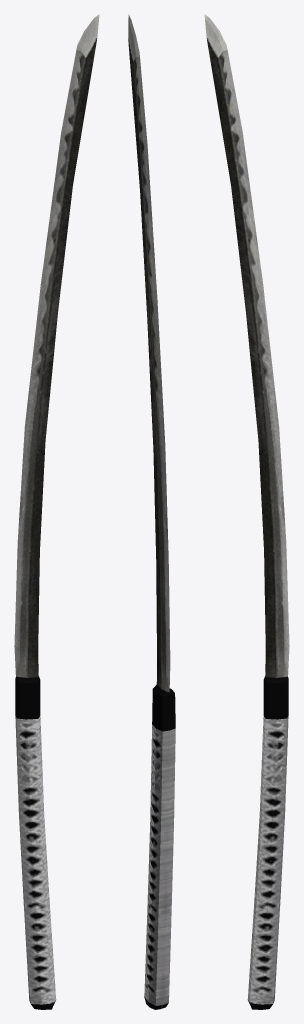
The model's file is nodachi00_ae7145a3.glb.
3 renders of one model, left to right at view 1: azimuth 90°, elevation 25°; view 2: azimuth 210°, elevation 25°; view 3: azimuth 270°, elevation 25°, orthographic. The views are drawn at different scales.
Size of the model in its own units: 0.0521 by 2.94 by 0.2286.
1 material, 1 textured.
